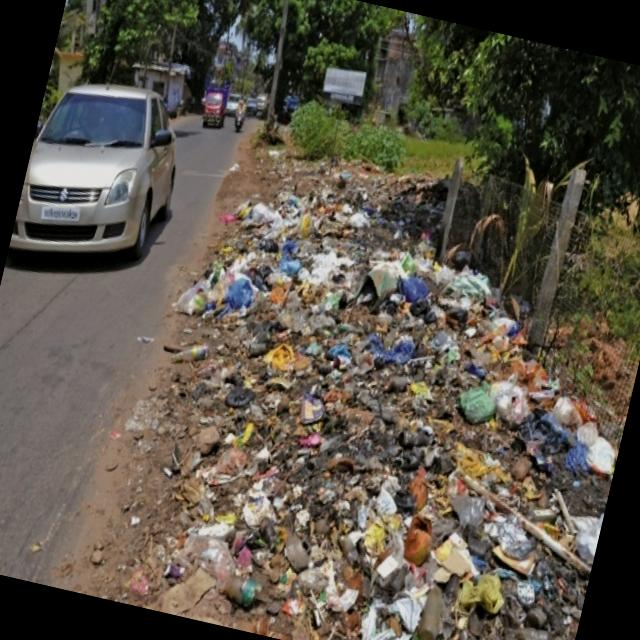garbage: (109, 180, 640, 640)
